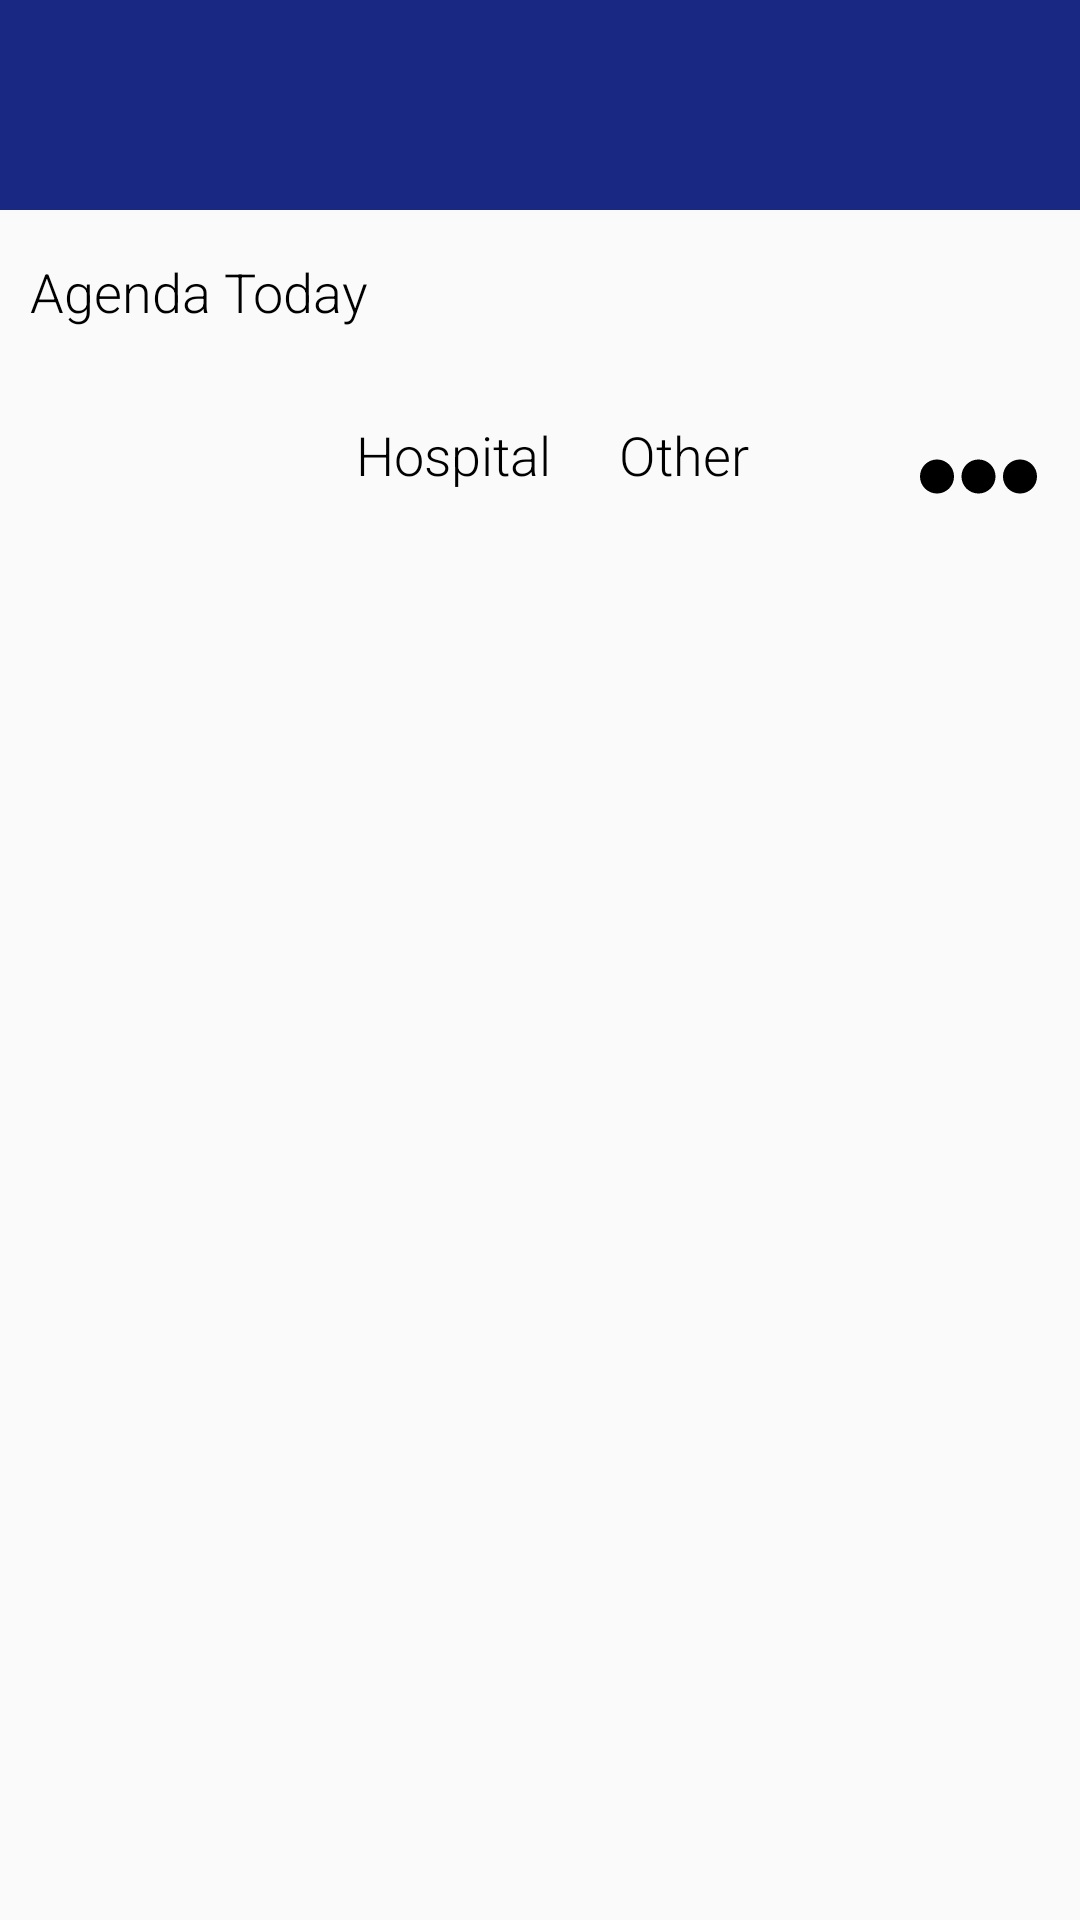

Icons on this 1080×1920 Android screen, each with its box as [x1,y1,x2,y2]:
dots horizontal: [920,459,1037,494]
